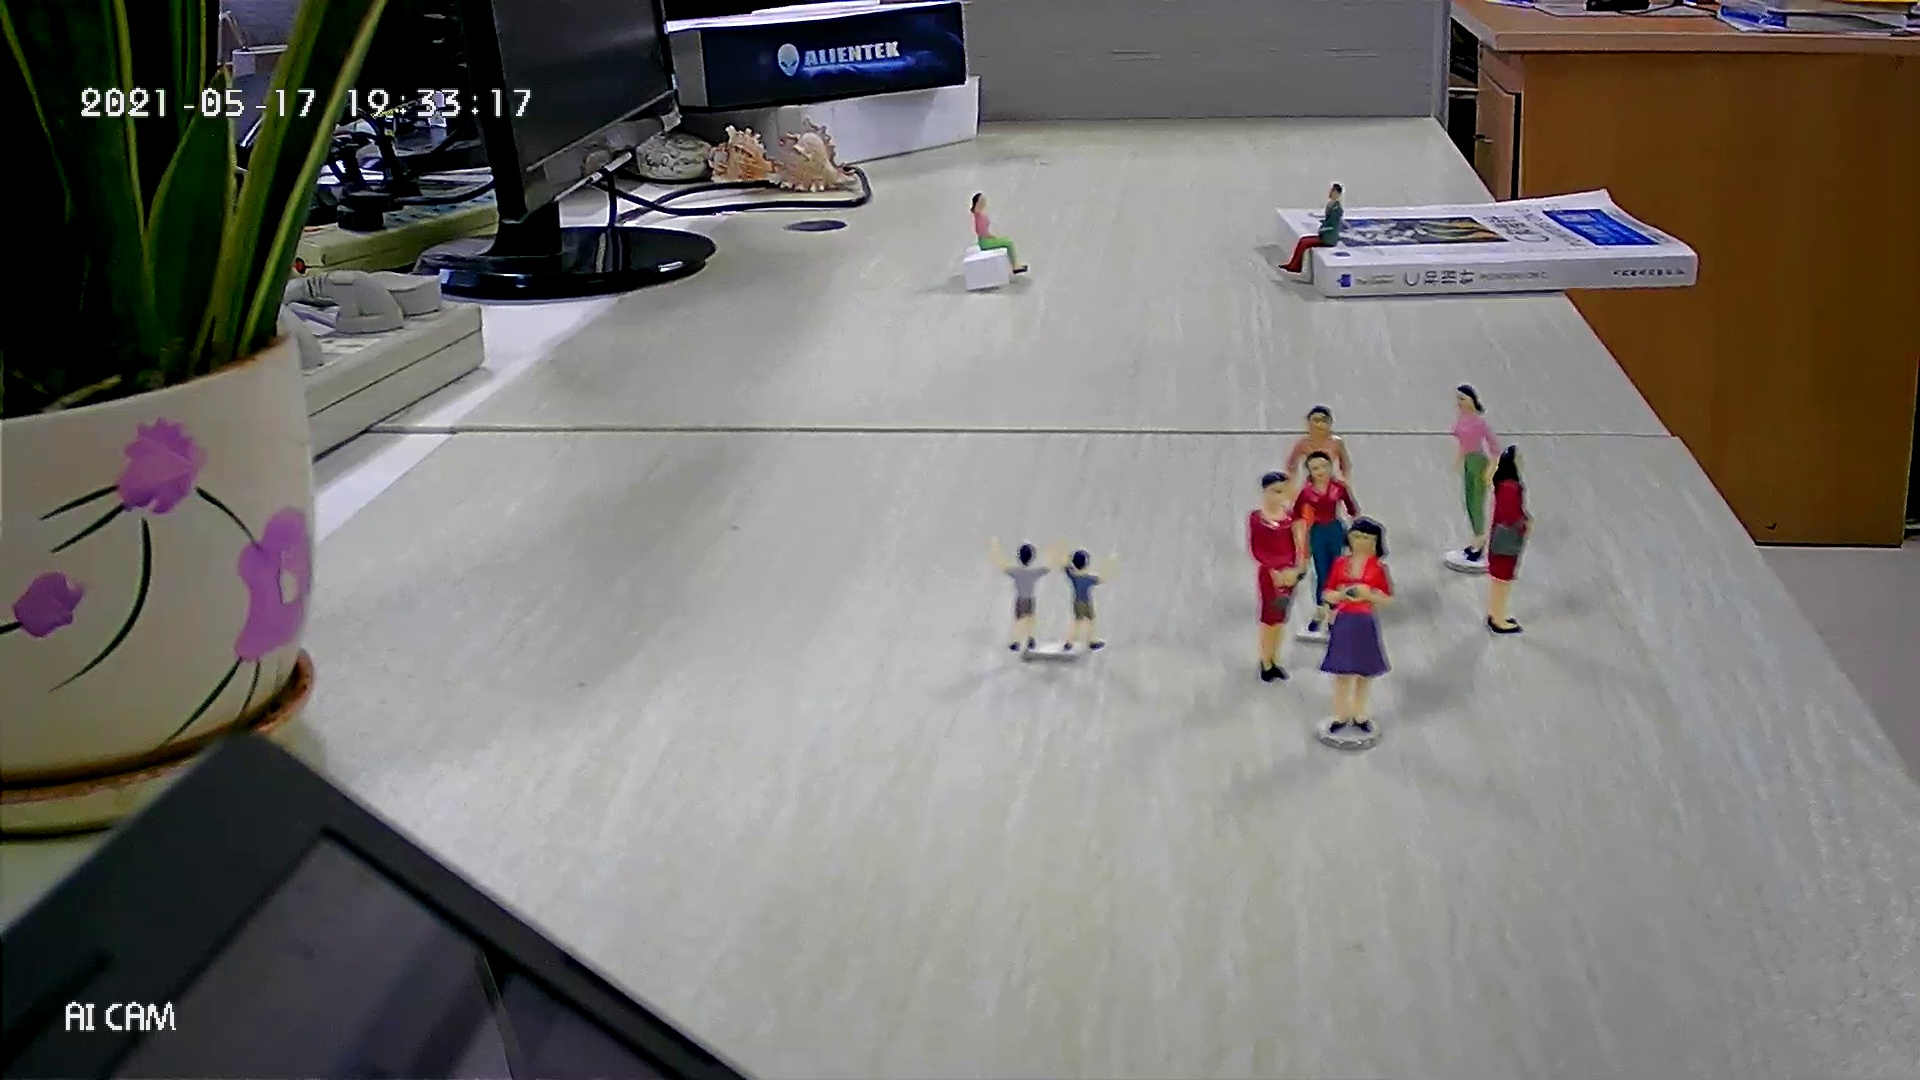person: (1317, 513, 1396, 734), (1292, 451, 1361, 637), (1284, 403, 1356, 581), (1247, 469, 1304, 684), (1483, 444, 1536, 636), (1447, 381, 1500, 564), (987, 531, 1057, 653), (1050, 547, 1119, 656), (1276, 181, 1347, 276), (969, 190, 1031, 280)
